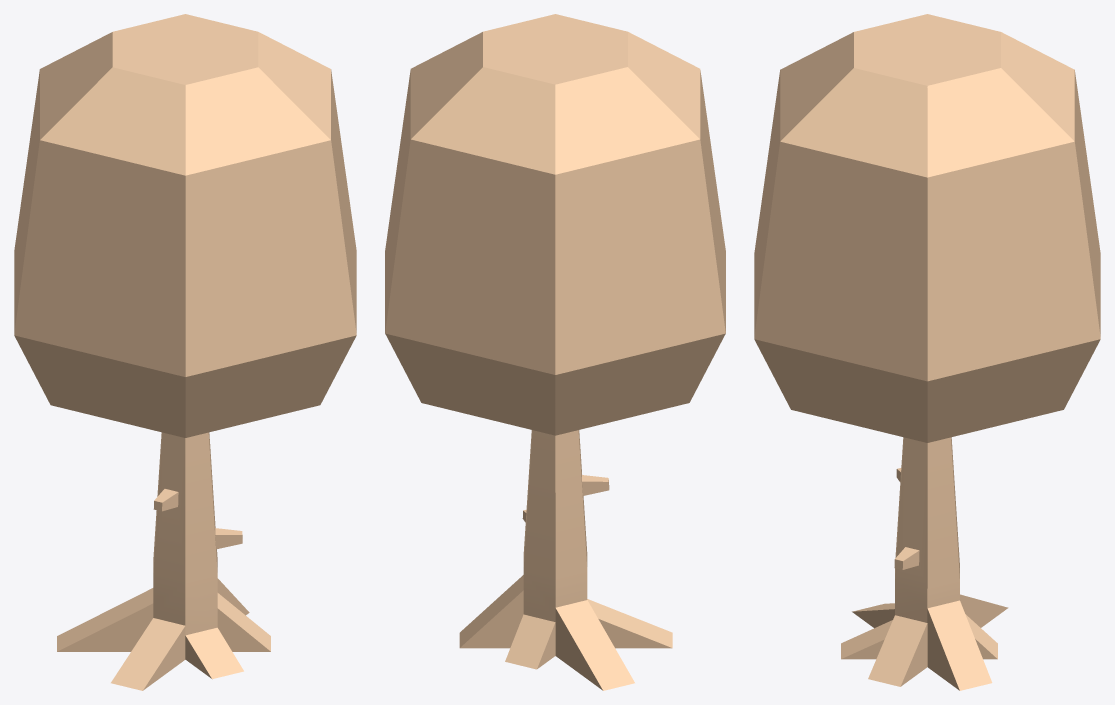
File: tree_oak.fbx
3 renders of one model, left to right at view 1: azimuth 30°, elevation 25°; view 2: azimuth 150°, elevation 25°; view 3: azimuth 270°, elevation 25°, orthographic.
Visible parts, largest first — view 1: tree_oak; view 2: tree_oak; view 3: tree_oak.
Part boxes in pixels (left/top/right/bottom): tree_oak: left=14, top=14, right=356, bottom=690; tree_oak: left=385, top=14, right=725, bottom=690; tree_oak: left=754, top=14, right=1100, bottom=690.
Size of the model in its own units: 222 by 368 by 192.
